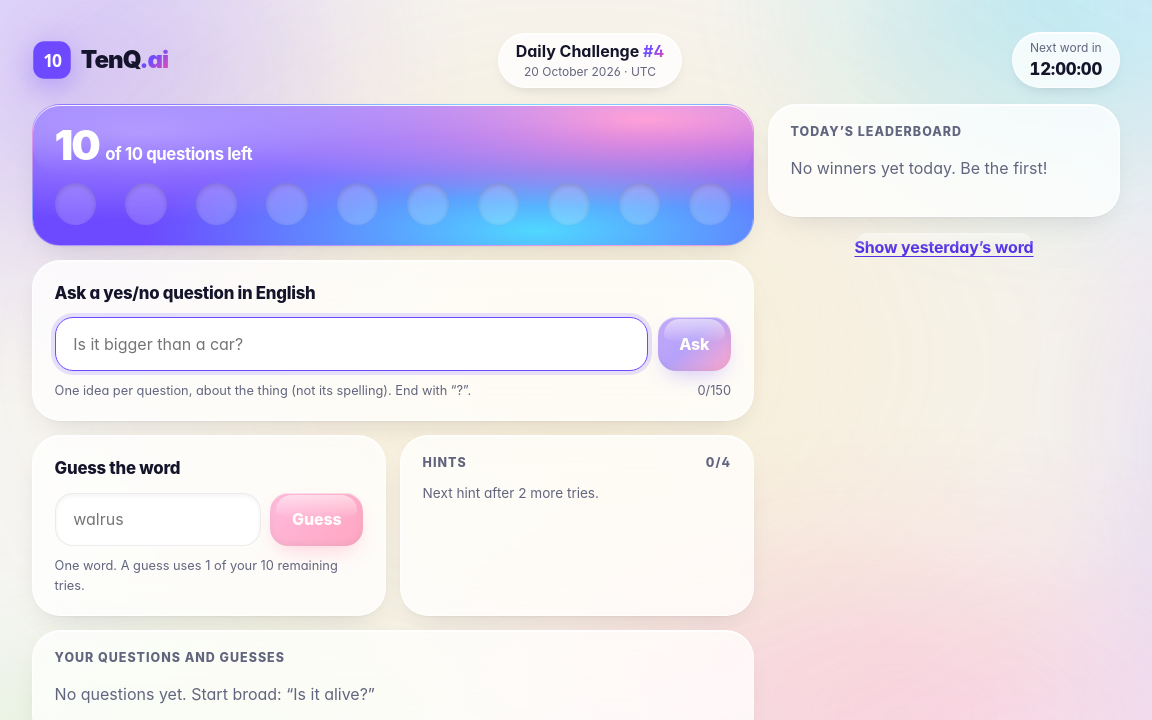
Test case: hints and guesses › explains an invalid guess without charging
This screenshot has width=1152, height=720.
Step 1. Type "two words" into the field labelled "Guess the word" → (158,520), box [55, 493, 261, 546]
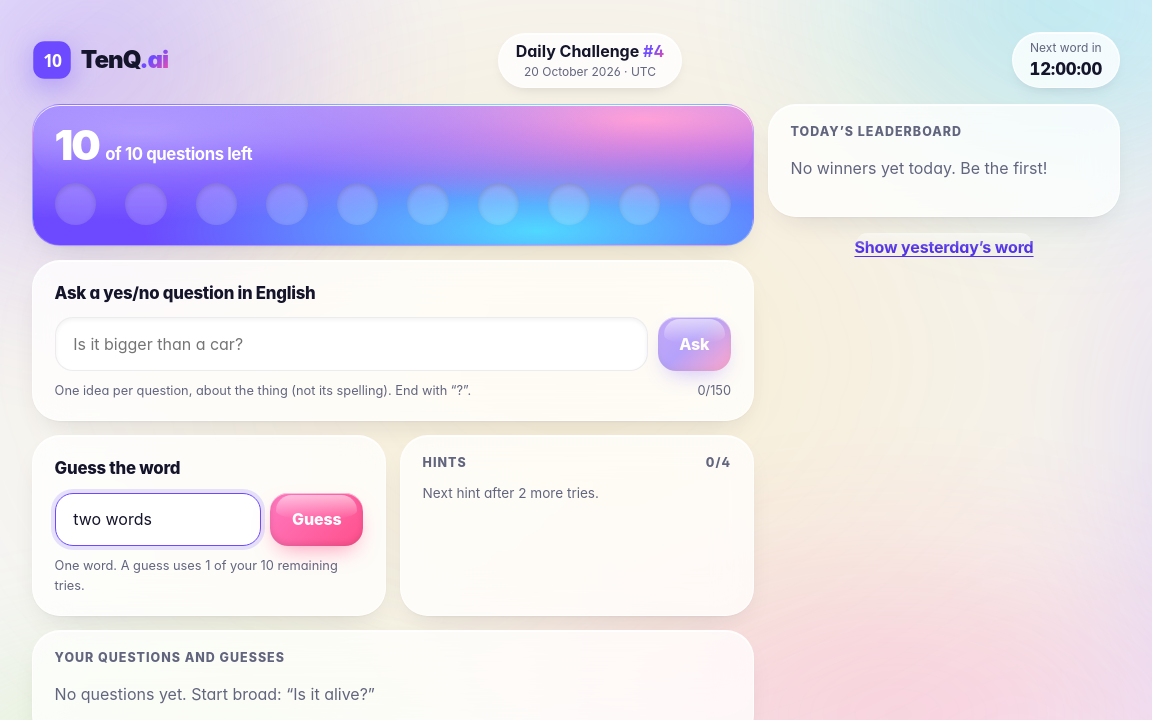
Step 2. Click the button "Guess" → (317,520), box [270, 493, 363, 546]
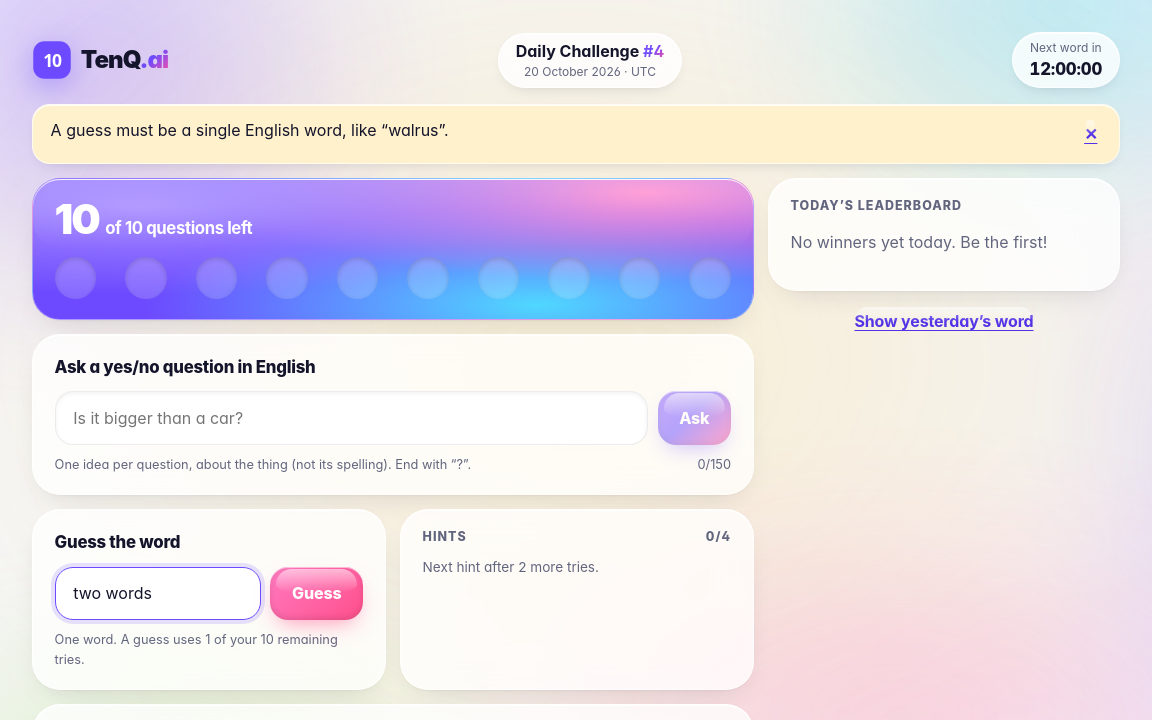
expect the heading "10 of 10 questions left" is shown: met, box [55, 194, 252, 244]
expect the text "A guess must be a single English word, like “walrus”." is shown: met, box [51, 118, 449, 142]
